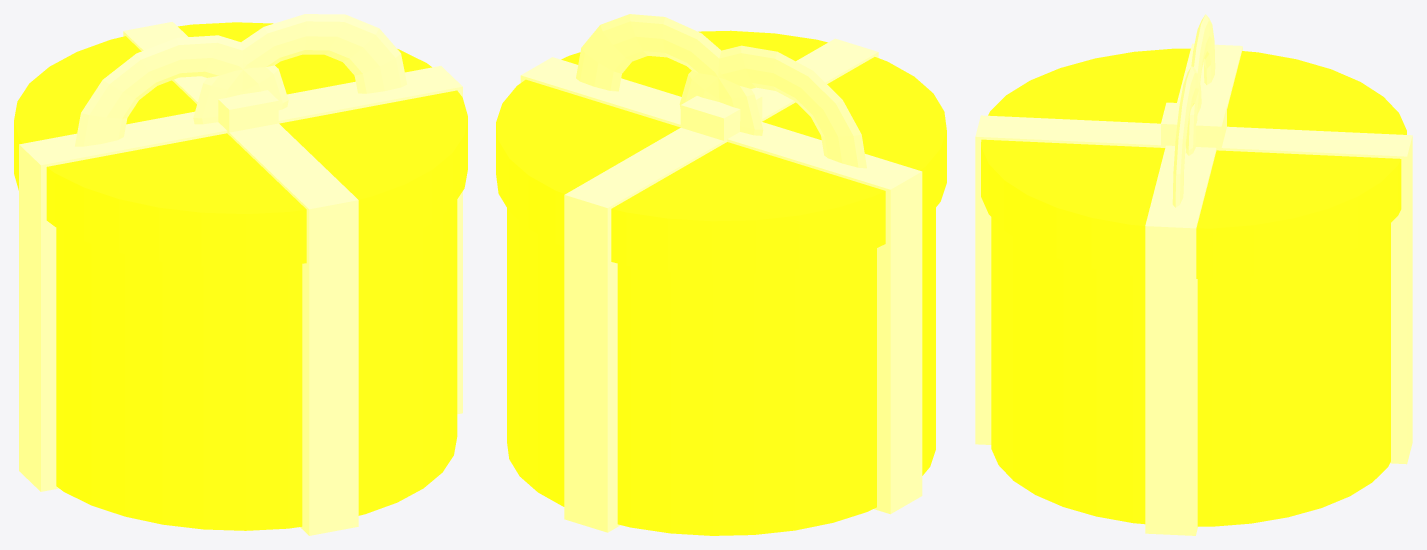
The model's file is Tmpl_Round_Root_208.glb.
3 renders of one model, left to right at view 1: azimuth 30°, elevation 25°; view 2: azimuth 150°, elevation 25°; view 3: azimuth 270°, elevation 25°, orthographic. The views are drawn at different scales.
Visible parts, largest first — view 1: Tmpl_Round_Base.206, Tmpl_Round_Lid.206, Tmpl_Round_Ribbon_Y.206, Tmpl_Round_Ribbon_X.206, Tmpl_Round_BowR.206, Tmpl_Round_BowL.206, Tmpl_Round_BowKnot.206; view 2: Tmpl_Round_Base.206, Tmpl_Round_Lid.206, Tmpl_Round_Ribbon_Y.206, Tmpl_Round_Ribbon_X.206, Tmpl_Round_BowR.206, Tmpl_Round_BowL.206, Tmpl_Round_BowKnot.206; view 3: Tmpl_Round_Base.206, Tmpl_Round_Lid.206, Tmpl_Round_Ribbon_X.206, Tmpl_Round_Ribbon_Y.206, Tmpl_Round_BowKnot.206, Tmpl_Round_BowR.206, Tmpl_Round_BowL.206.
Boxes of the visible parts, x1,y1,x2,y2 form: Tmpl_Round_Base.206: (56,200,457,530); Tmpl_Round_Lid.206: (14,22,467,267); Tmpl_Round_Ribbon_Y.206: (123,22,358,535); Tmpl_Round_Ribbon_X.206: (19,66,462,491); Tmpl_Round_BowR.206: (193,14,406,124); Tmpl_Round_BowL.206: (75,35,288,146); Tmpl_Round_BowKnot.206: (218,90,278,132); Tmpl_Round_Base.206: (507,208,935,535); Tmpl_Round_Lid.206: (496,30,946,274); Tmpl_Round_Ribbon_Y.206: (564,38,878,532); Tmpl_Round_Ribbon_X.206: (520,57,922,514); Tmpl_Round_BowR.206: (576,14,763,135); Tmpl_Round_BowL.206: (679,45,866,168); Tmpl_Round_BowKnot.206: (680,94,762,143); Tmpl_Round_Base.206: (991,217,1390,526); Tmpl_Round_Lid.206: (981,48,1406,278); Tmpl_Round_Ribbon_X.206: (1145,43,1242,535); Tmpl_Round_Ribbon_Y.206: (975,115,1412,464); Tmpl_Round_BowKnot.206: (1161,102,1226,150); Tmpl_Round_BowR.206: (1172,66,1201,207); Tmpl_Round_BowL.206: (1186,14,1215,155).
Size of the model in its own units: 0.874 by 0.8644 by 0.874.
